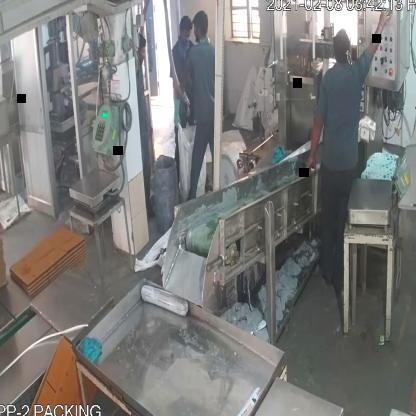no_glove: (364, 0, 394, 65), (304, 102, 326, 178)
